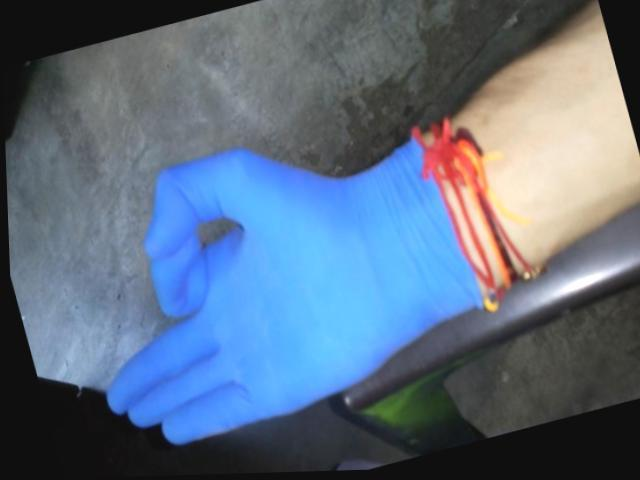Hand-in-Glove: (18, 27, 521, 480)
